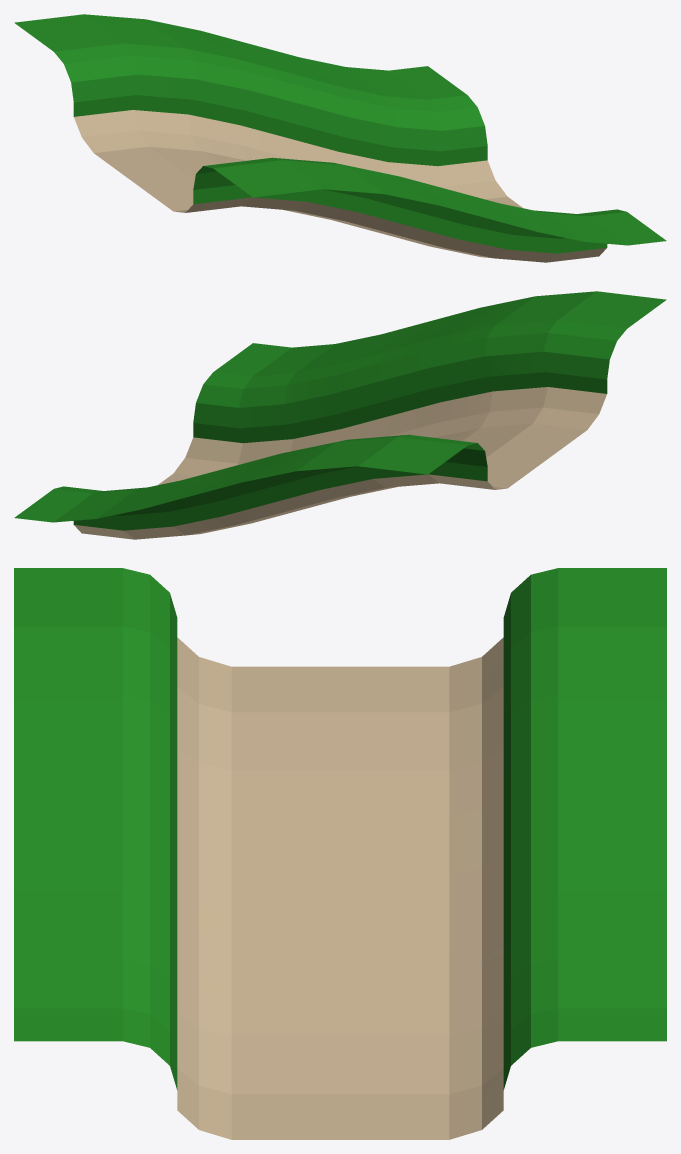
File: Track_Standard_Incline_Single.obj
3 renders of one model, top to bottom at view 1: azimuth 30°, elevation 25°; view 2: azimuth 150°, elevation 25°; view 3: azimuth 270°, elevation 25°, orthographic. The views are drawn at different scales.
Visible parts, largest first — view 1: Grass, Dirt; view 2: Grass, Dirt; view 3: Grass, Dirt.
Part boxes in pixels (x1,y1,x2,y2): Grass: (14, 14, 666, 253); Dirt: (74, 110, 606, 262); Grass: (14, 291, 666, 530); Dirt: (74, 387, 606, 539); Grass: (14, 568, 666, 1089); Dirt: (177, 637, 503, 1139).
Bounding box in the file's own units: 3 × 1.5 × 3.
